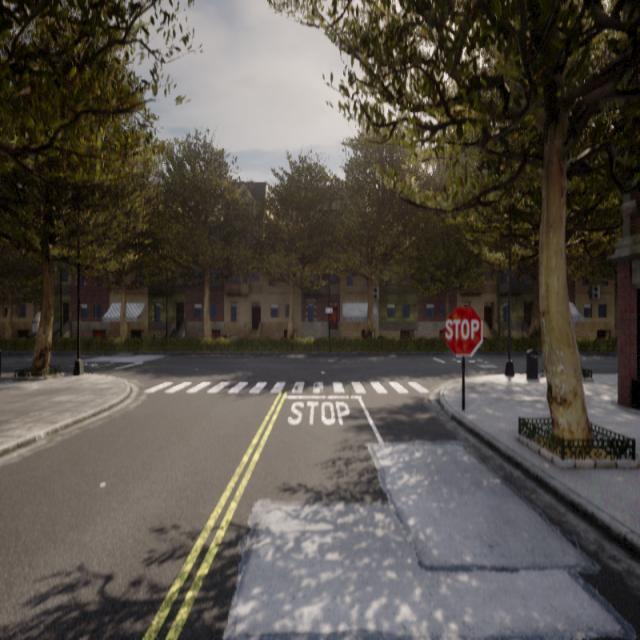stop sign: (442, 302, 484, 358), (444, 316, 480, 341)
